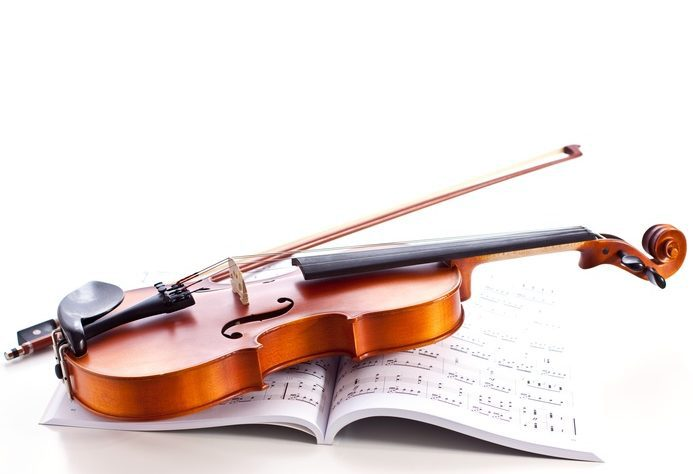Fiddle: (17, 137, 676, 404)
